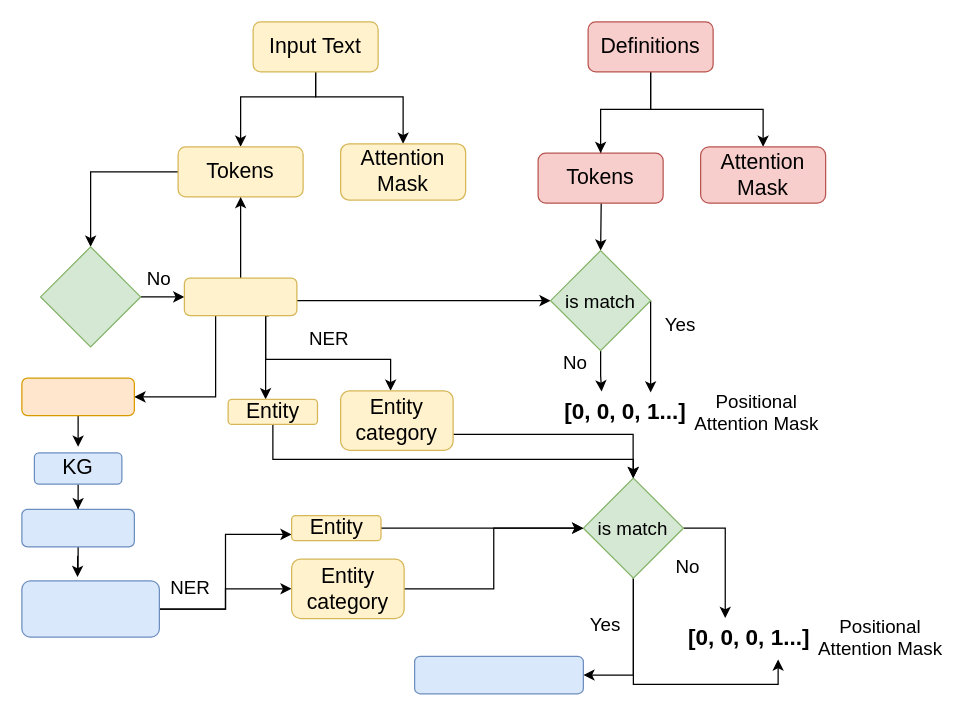
This 970x716 diagram has some shape labels left out. The centre of each missing label's shape, as x and y in pixels:
EOS: the point at 90,296
KG Embeddings: the point at 498,674
Node2Vec: the point at 77,527
Query: the point at 77,396
Token: the point at 240,296
Top k similar nodes: the point at 90,608
